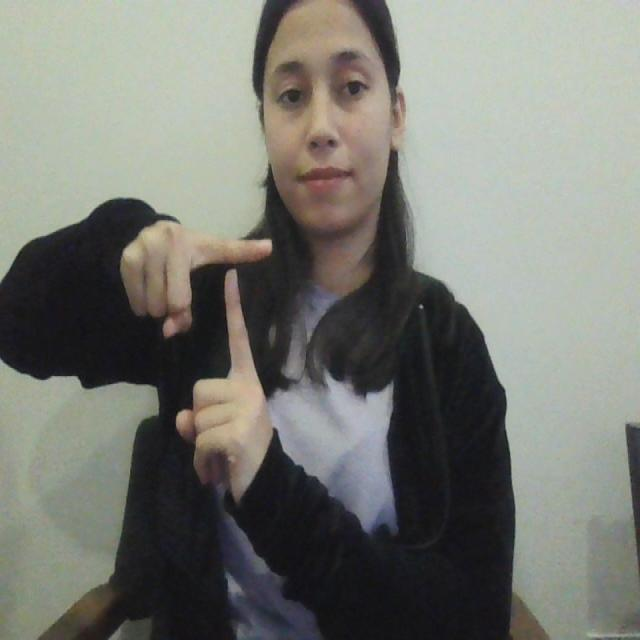Tesekkurler: (184, 214, 280, 385)
